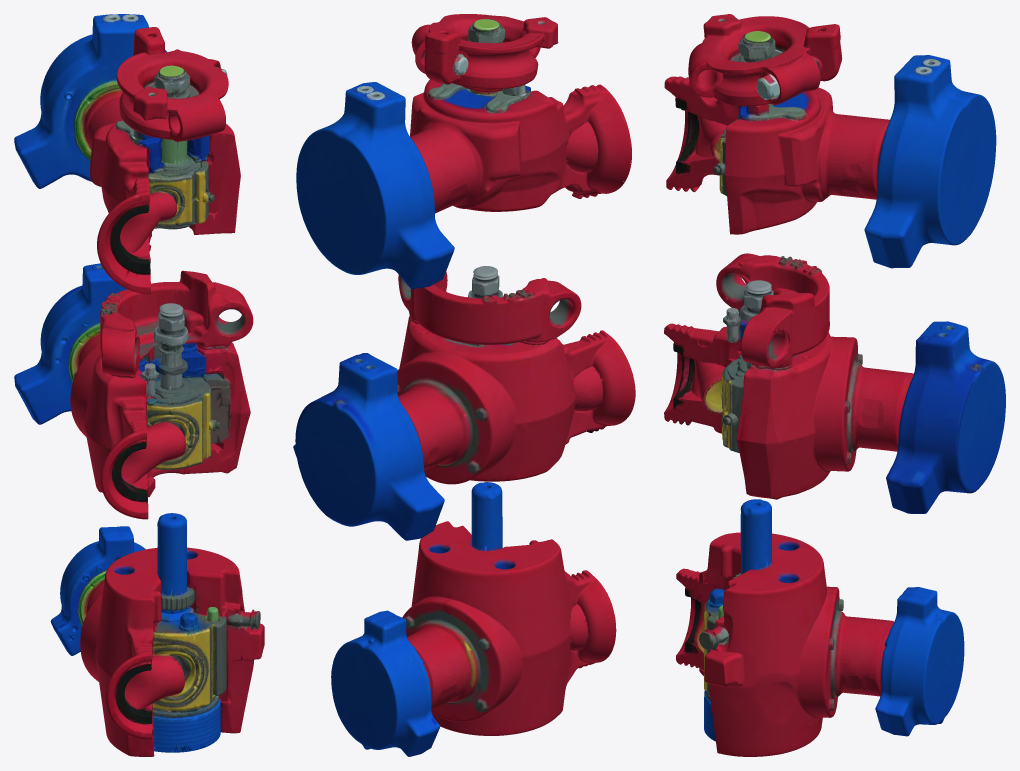
The model's file is wecoULTipos.glb.
3 renders of one model, left to right at view 1: azimuth 30°, elevation 25°; view 2: azimuth 150°, elevation 25°; view 3: azimuth 270°, elevation 25°, orthographic. The views are drawn at different scales.
Parts seen in each view (by area): view 1: tripo_node_546ace6d-d354-486c-9a65-107d50e015fc; view 2: tripo_node_546ace6d-d354-486c-9a65-107d50e015fc; view 3: tripo_node_546ace6d-d354-486c-9a65-107d50e015fc.
Boxes of the visible parts, x1,y1,x2,y2 form: tripo_node_546ace6d-d354-486c-9a65-107d50e015fc: [14, 14, 264, 756]; tripo_node_546ace6d-d354-486c-9a65-107d50e015fc: [293, 14, 635, 756]; tripo_node_546ace6d-d354-486c-9a65-107d50e015fc: [664, 14, 1005, 756].
Bounding box in the file's own units: 0.3313 × 0.9796 × 0.43.
Materials: 1 (1 with a texture image).
